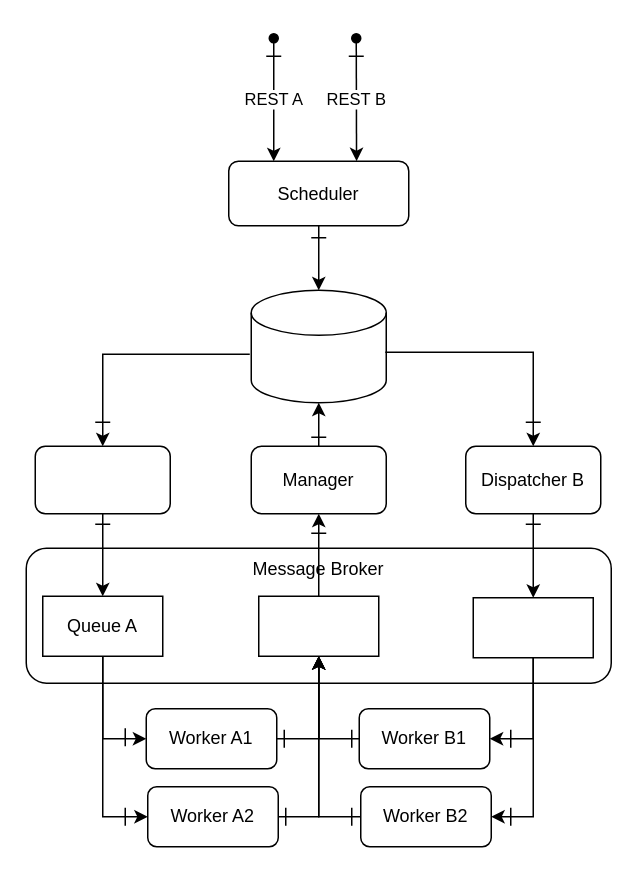
Some shapes in this 638 by 873 pixel diagram are drawn without their labels. Here are the shapes that lost their labels. From the top down, the centre of each, then its label:
At pixel 318 346: "PostgreSQL".
At pixel 102 479: "Dispatcher A".
At pixel 318 625: "Queue WorkRes".
At pixel 532 627: "Queue B".
